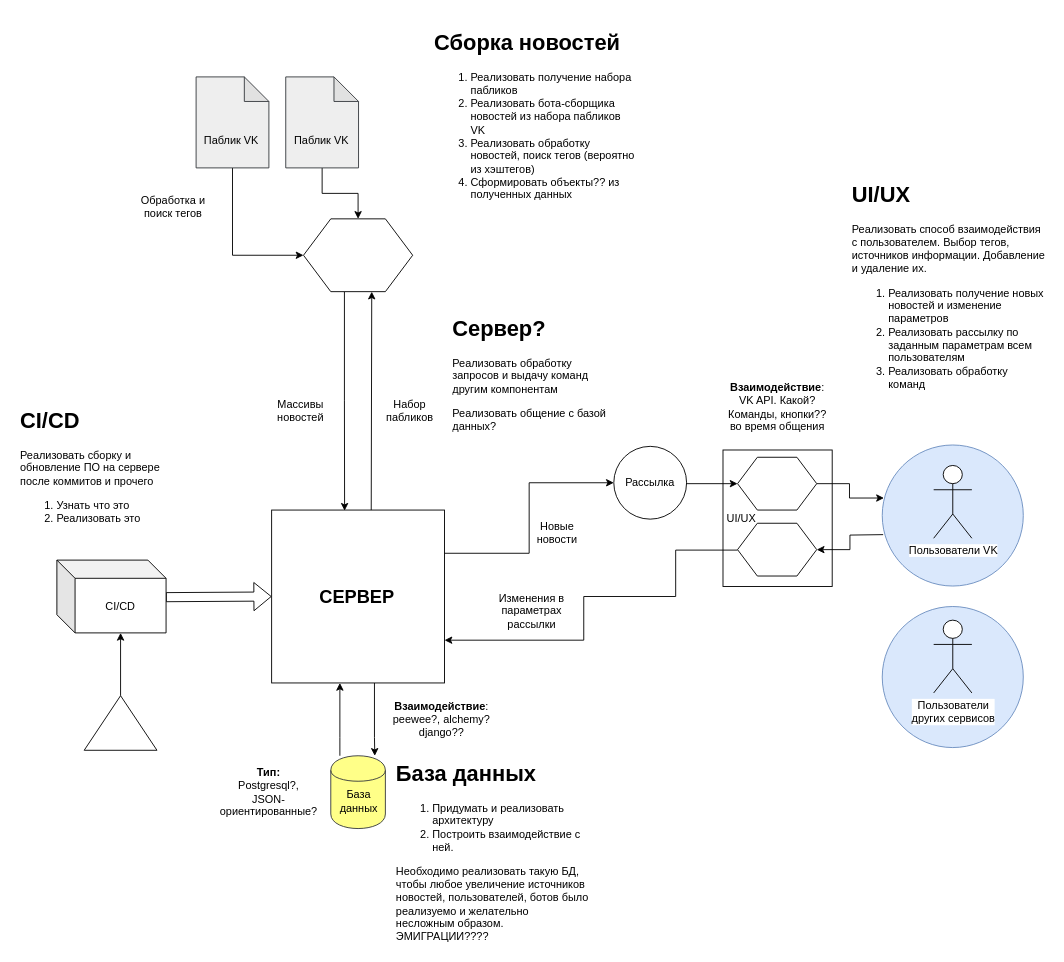
This 1064x962 diagram has some shape labels left out. The centre of each missing label's shape, as x and y in pixels:
GIT: (x=120, y=722)
Обработка команд: (x=777, y=549)
Сборщик новостей: (x=358, y=255)
Типизи-рованная рассылка: (x=777, y=483)
